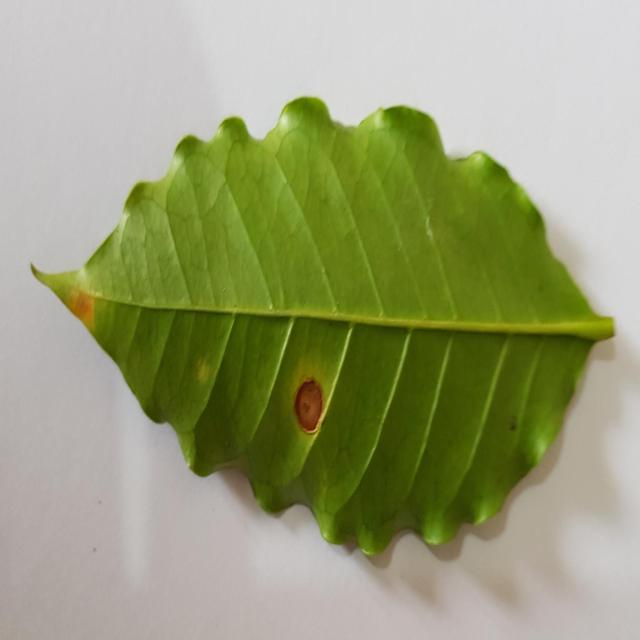Enfermedad-Mancha-de-hierro: (30, 96, 616, 566)
